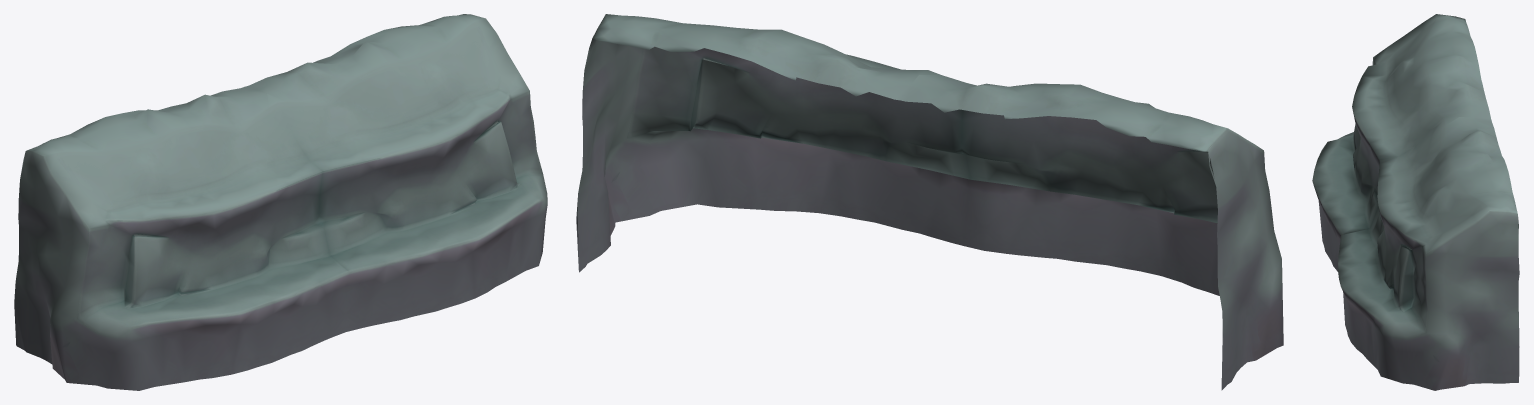
File: SM_Rock_Wall_03.fbx
3 renders of one model, left to right at view 1: azimuth 30°, elevation 25°; view 2: azimuth 150°, elevation 25°; view 3: azimuth 270°, elevation 25°, orthographic. The views are drawn at different scales.
Parts seen in each view (by area): view 1: pCube106; view 2: pCube106; view 3: pCube106.
Part boxes in pixels (x1,y1,x2,y2): pCube106: (14, 14, 547, 390); pCube106: (576, 14, 1283, 390); pCube106: (1312, 14, 1519, 390).
Size of the model in its own units: 2245 by 860 by 918.
